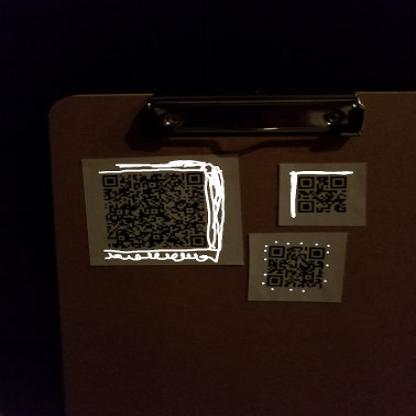qr: (100, 170, 214, 252), (265, 242, 325, 292), (295, 172, 349, 217)
